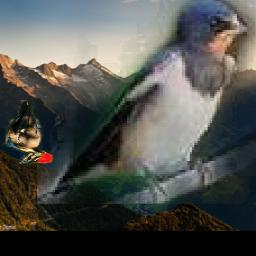Swallow: (38, 0, 256, 204)
Woodpecker: (3, 100, 53, 164)
